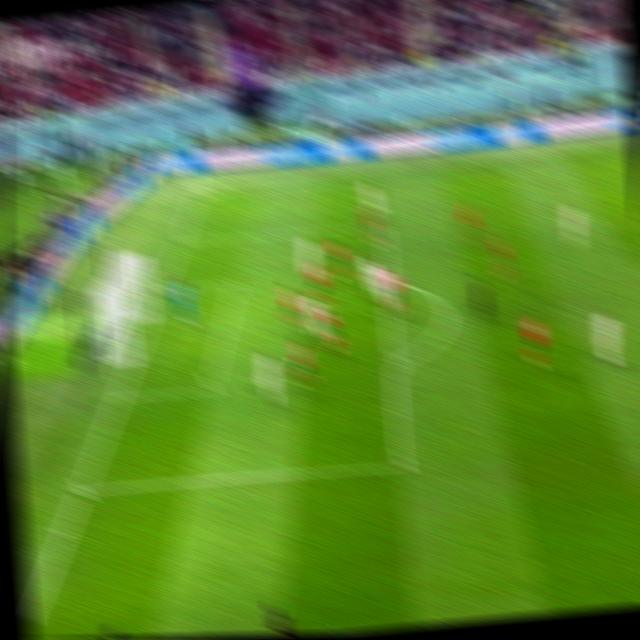bigarea_bottom_inner: (390, 453, 413, 474)
bigarea_bottom_outter: (72, 479, 93, 499)
bigarea_top_inner: (372, 218, 394, 234)
bigarea_top_outter: (173, 234, 190, 247)
bottom_arc_area_intersection: (386, 353, 404, 372)
corner: (193, 191, 207, 200)
smallarea_bottom_inner: (199, 375, 222, 400)
smallarea_bottom_outter: (108, 385, 130, 407)
smallarea_top_inner: (227, 275, 244, 292)
smallarea_top_outter: (152, 281, 171, 299)
